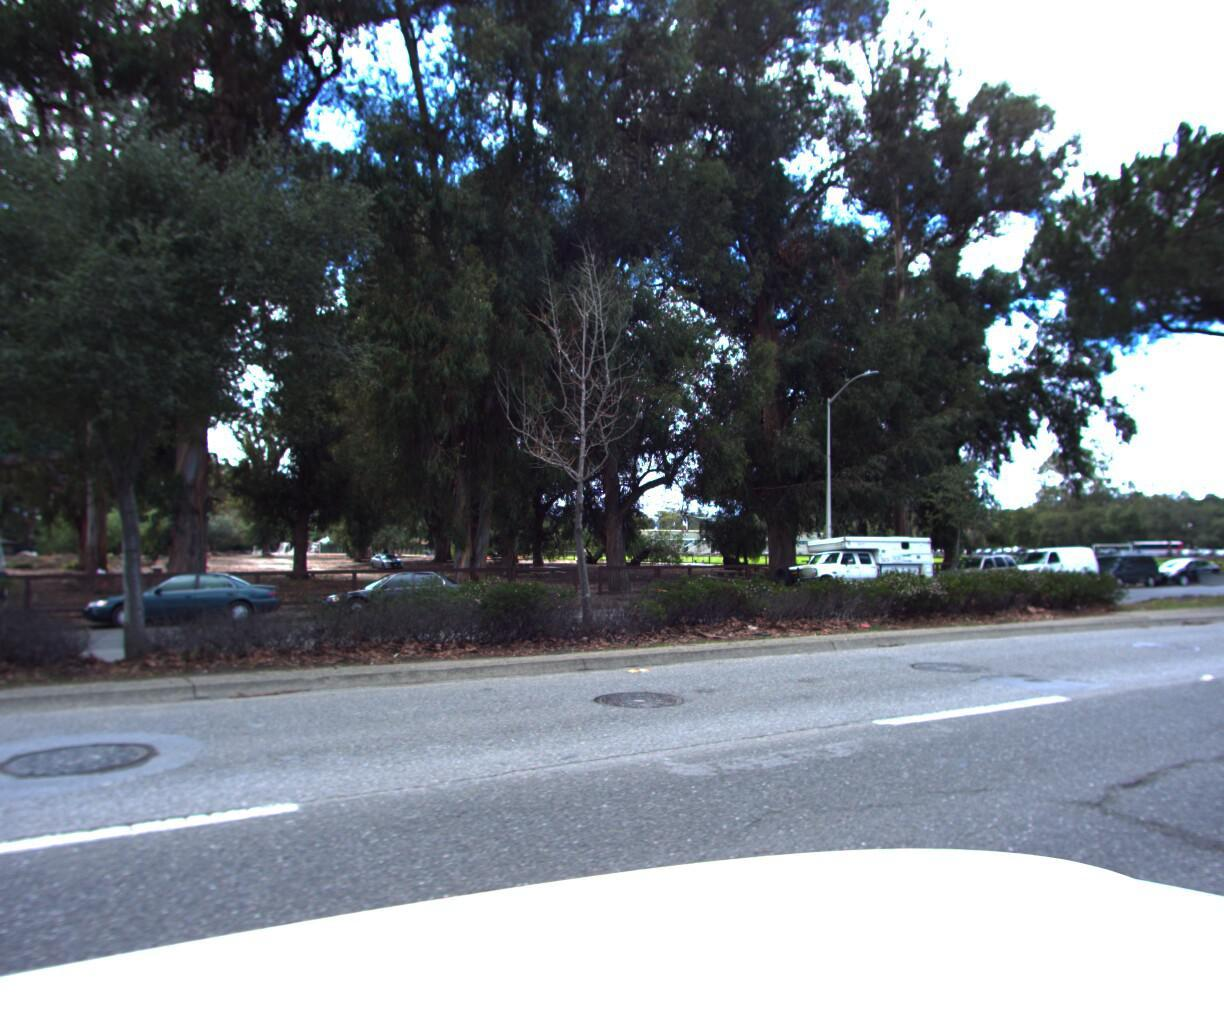car: (80, 573, 283, 637), (314, 569, 484, 626), (989, 544, 1102, 591), (924, 551, 1026, 595), (1069, 549, 1159, 589), (1137, 558, 1221, 586)
other_vehicle: (752, 531, 941, 605), (1217, 527, 1224, 582)
